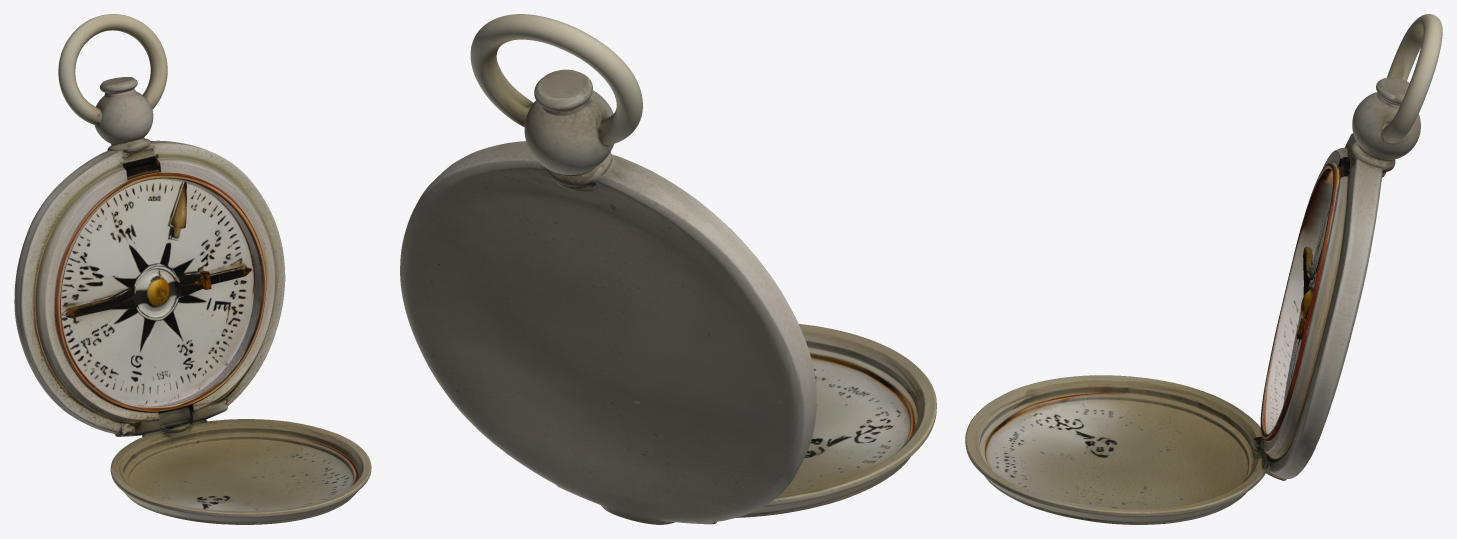
The model's file is 抗战时期中国远征军何元清使用的怀表式指北针.glb.
The picture shows the model from 3 angles, left to right: view 1: azimuth 30°, elevation 25°; view 2: azimuth 150°, elevation 25°; view 3: azimuth 270°, elevation 25°; orthographic projection. The views are drawn at different scales.
Parts seen in each view (by area): view 1: texture_pbr_v128; view 2: texture_pbr_v128; view 3: texture_pbr_v128.
Part boxes in pixels (bbox=[...]): texture_pbr_v128: bbox=[14, 14, 371, 524]; texture_pbr_v128: bbox=[400, 14, 936, 524]; texture_pbr_v128: bbox=[965, 14, 1442, 524].
Size of the model in its own units: 0.6306 by 0.878 by 0.8378.
1 material, 1 textured.
